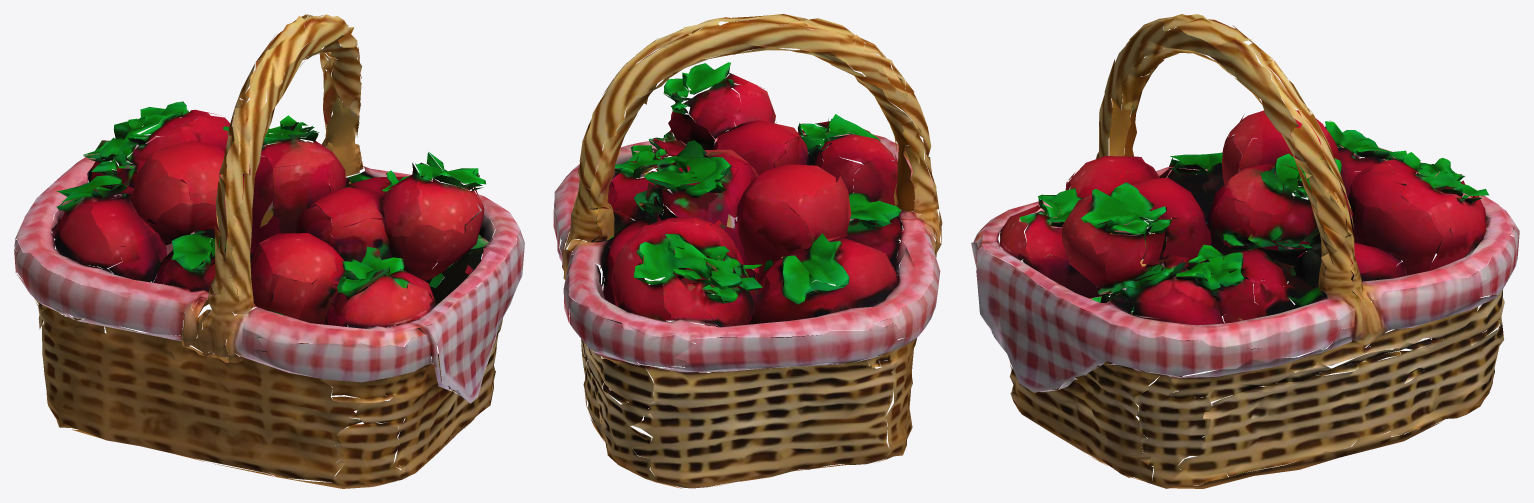
The model's file is basket.glb.
The picture shows the model from 3 angles, left to right: view 1: azimuth 30°, elevation 25°; view 2: azimuth 150°, elevation 25°; view 3: azimuth 270°, elevation 25°; orthographic projection. The views are drawn at different scales.
Visible parts, largest first — view 1: tmpzn1dx3x5.ply; view 2: tmpzn1dx3x5.ply; view 3: tmpzn1dx3x5.ply.
Boxes of the visible parts, box(x1,y1,x2,y2) form: tmpzn1dx3x5.ply: box(14, 14, 524, 488); tmpzn1dx3x5.ply: box(553, 14, 942, 488); tmpzn1dx3x5.ply: box(971, 14, 1519, 488).
Bounding box in the file's own units: 1.53 × 1.34 × 1.74.
Materials: 1 (1 with a texture image).
